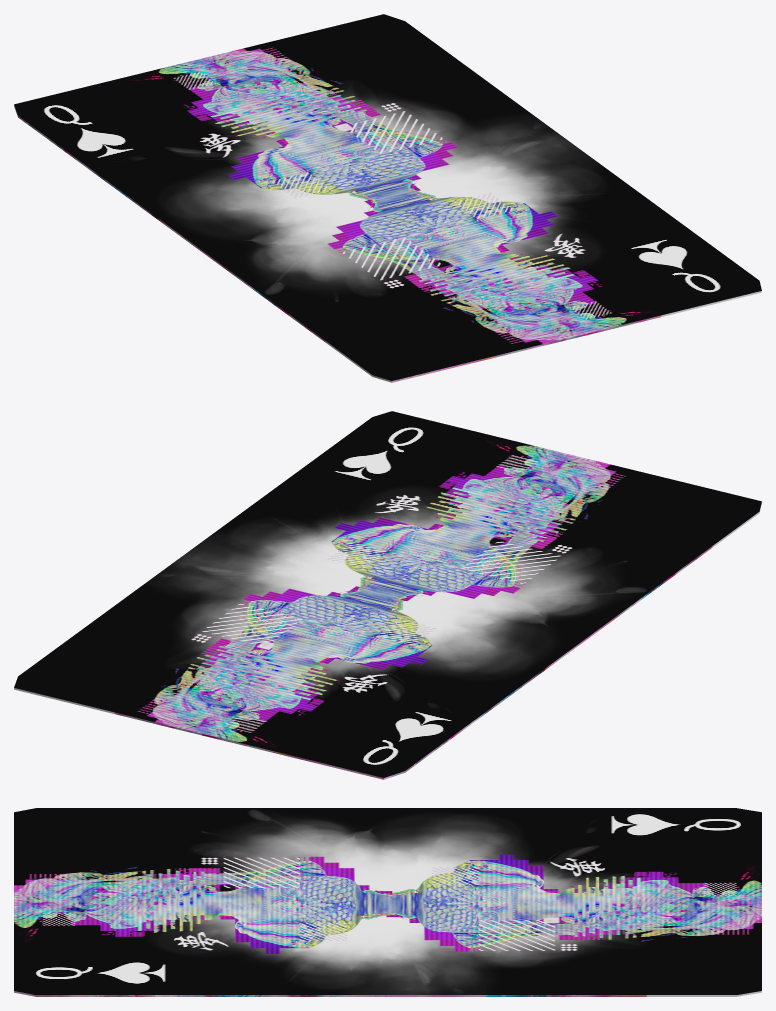
Rendered from Queen.glb.
The picture shows the model from 3 angles, top to bottom: view 1: azimuth 30°, elevation 25°; view 2: azimuth 150°, elevation 25°; view 3: azimuth 270°, elevation 25°; orthographic projection.
Parts seen in each view (by area): view 1: pCube5_blinn5_0; view 2: pCube5_blinn5_0; view 3: pCube5_blinn5_0.
Boxes of the visible parts, left/top/right/bottom form: pCube5_blinn5_0: left=14, top=14, right=761, bottom=382; pCube5_blinn5_0: left=14, top=411, right=761, bottom=779; pCube5_blinn5_0: left=14, top=808, right=761, bottom=996.
Size of the model in its own units: 3.21 by 0.0142 by 5.44.
Materials: 1 (1 with a texture image).
